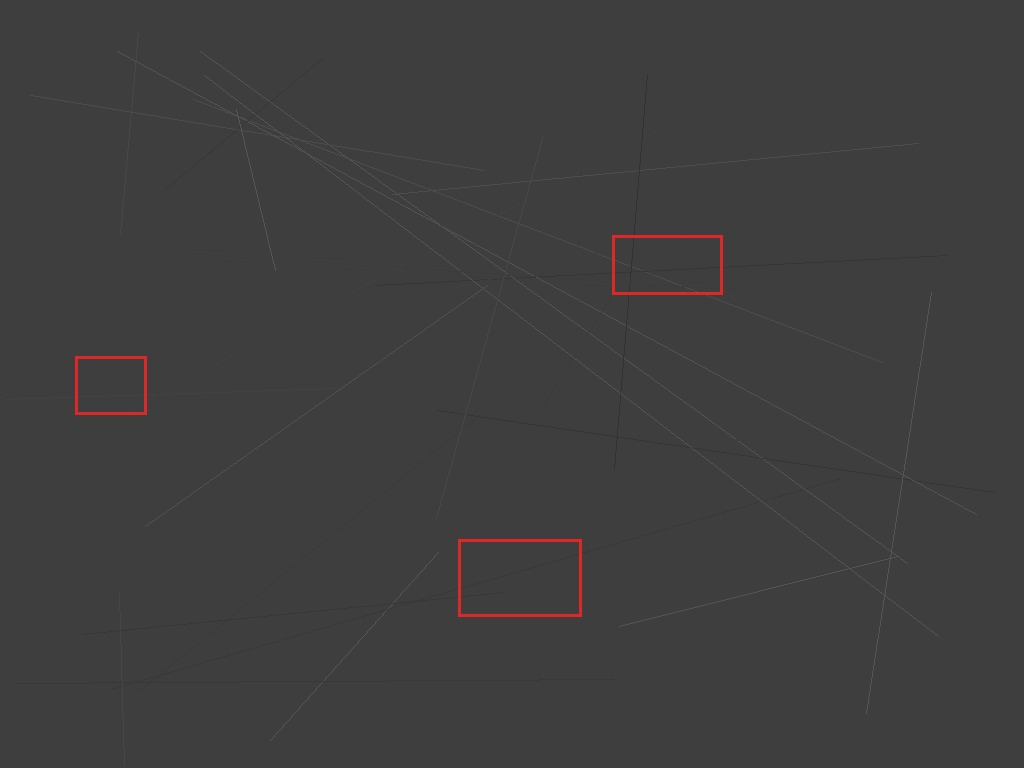D40: (458, 539, 581, 616), (612, 235, 722, 294), (75, 356, 146, 414)
